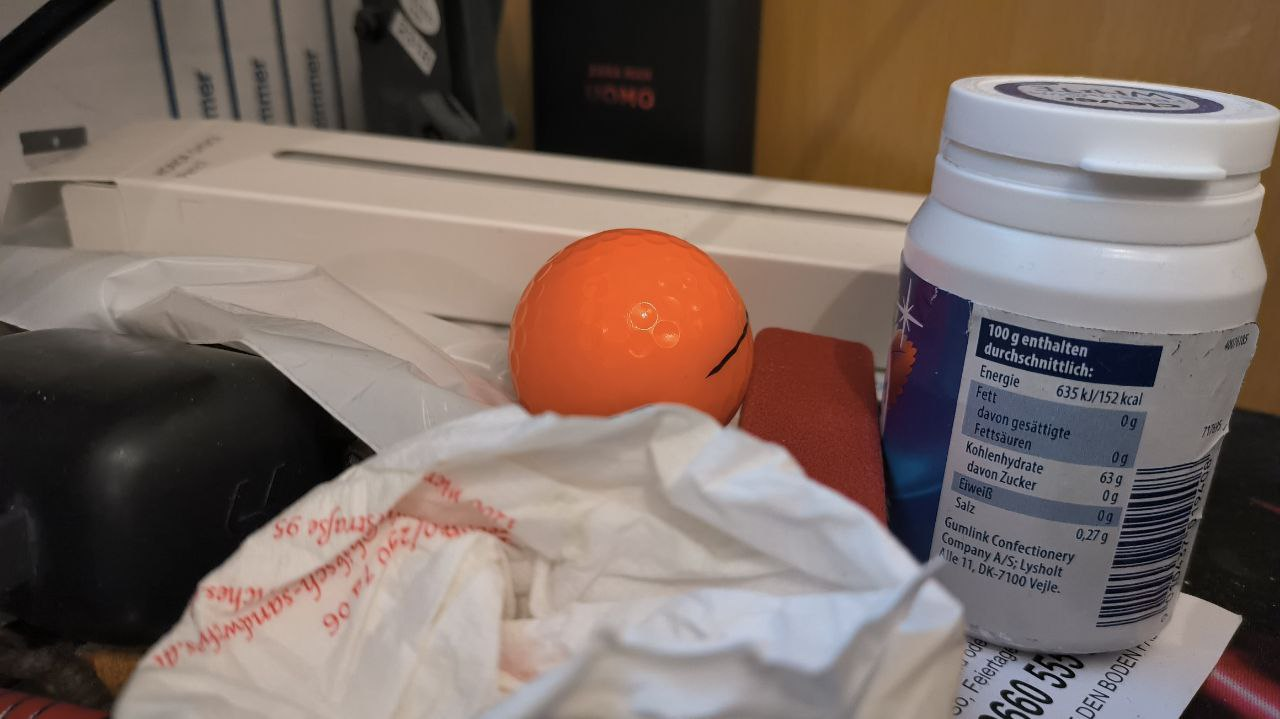orange_ball: (509, 227, 756, 429)
